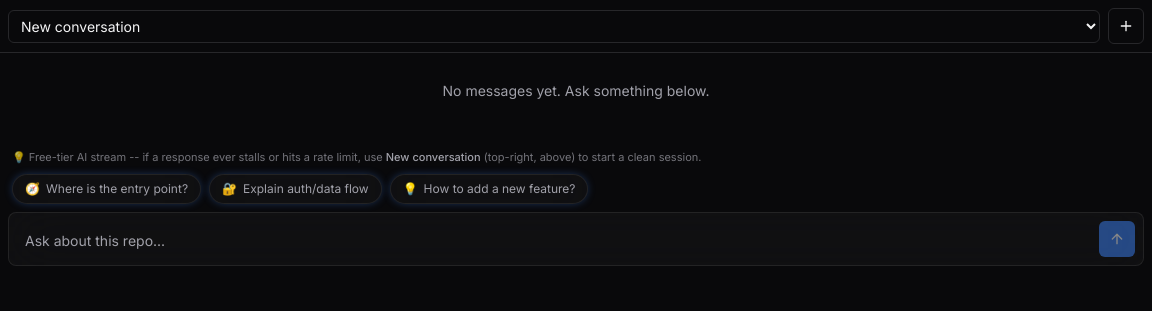
Test: ChatPanel error retry › clears the in-progress partial answer when the stream errors out mid-response
The width and height of the screenshot is (1152, 311).
Type "Find the answer" into the text box with placeholder "Ask about this repo..." at (554, 240), box [17,224,1091,256]
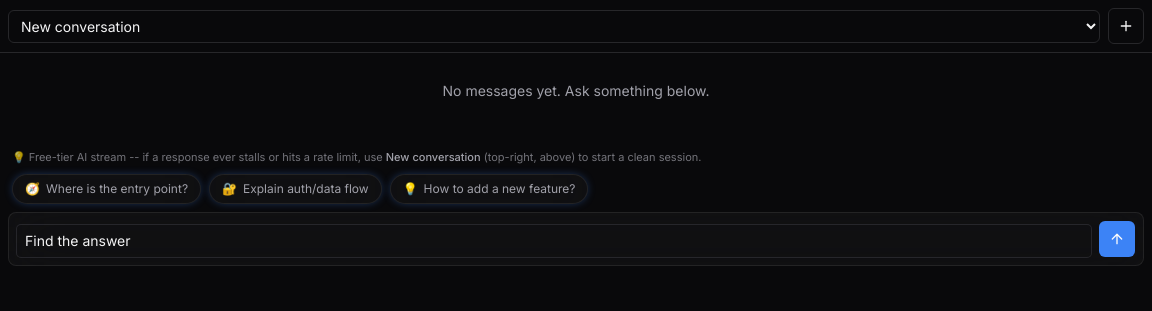
Click the button named "Send message" at (1117, 238), box [1099,220,1135,256]
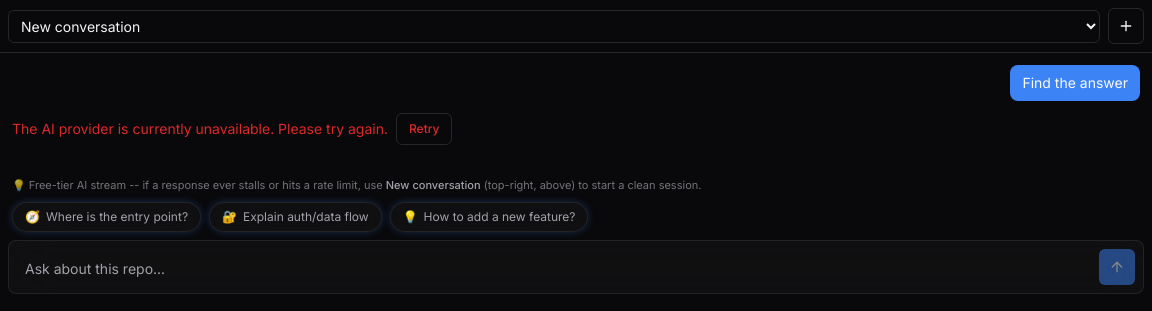
Result: the text "The AI provider is currently unavailable. Please try again." is shown at [12,119,388,139]
Result: the button "Retry" is shown at [396,113,452,145]
